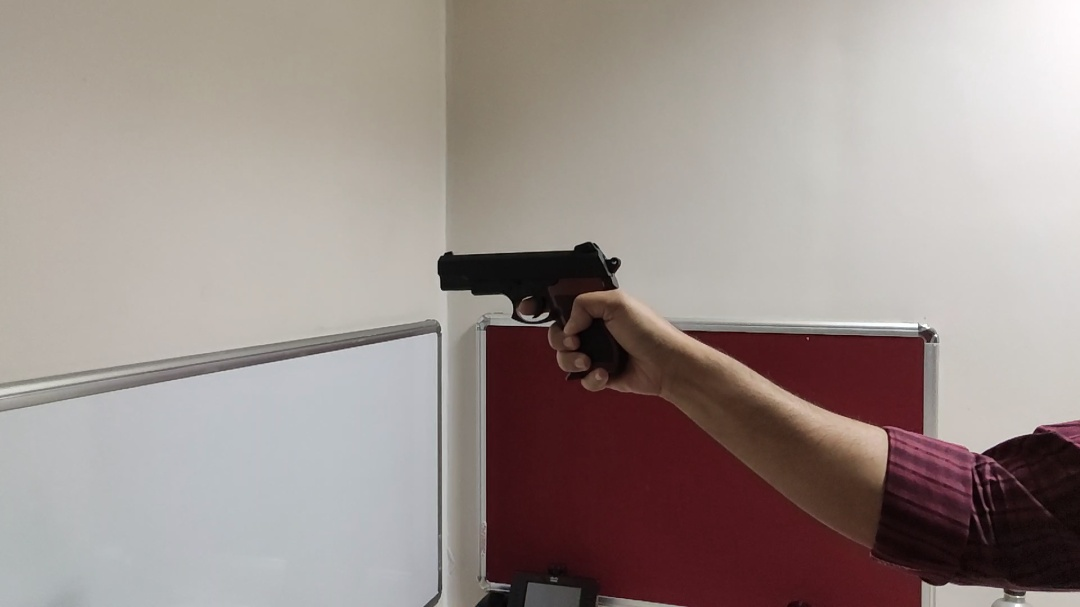gun: (434, 240, 636, 383)
